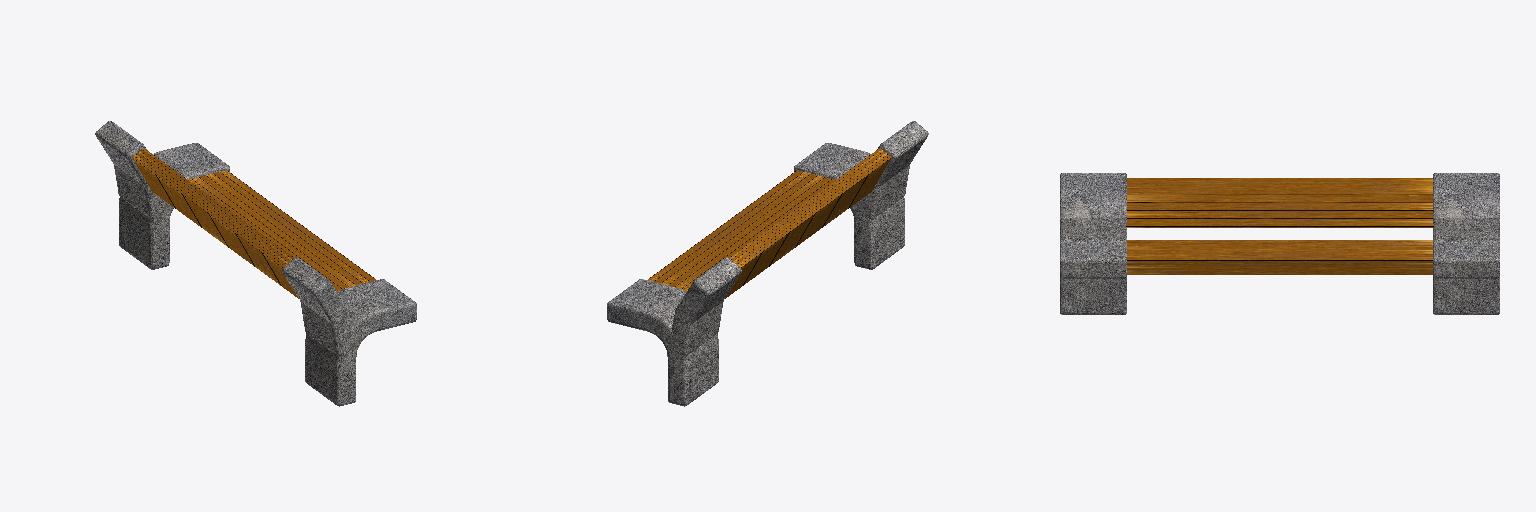
The picture shows the model from 3 angles: view 1: azimuth 30°, elevation 25°; view 2: azimuth 150°, elevation 25°; view 3: azimuth 270°, elevation 25°; orthographic projection.
Visible parts, largest first — view 1: Box001; view 2: Box001; view 3: Box001.
Part boxes in pixels (x1,y1,x2,y2): Box001: (95, 121, 416, 406); Box001: (607, 121, 928, 406); Box001: (1060, 173, 1499, 314).
Bounding box in the file's own units: 15.9 × 18.93 × 58.52.
2 materials, 2 textured.